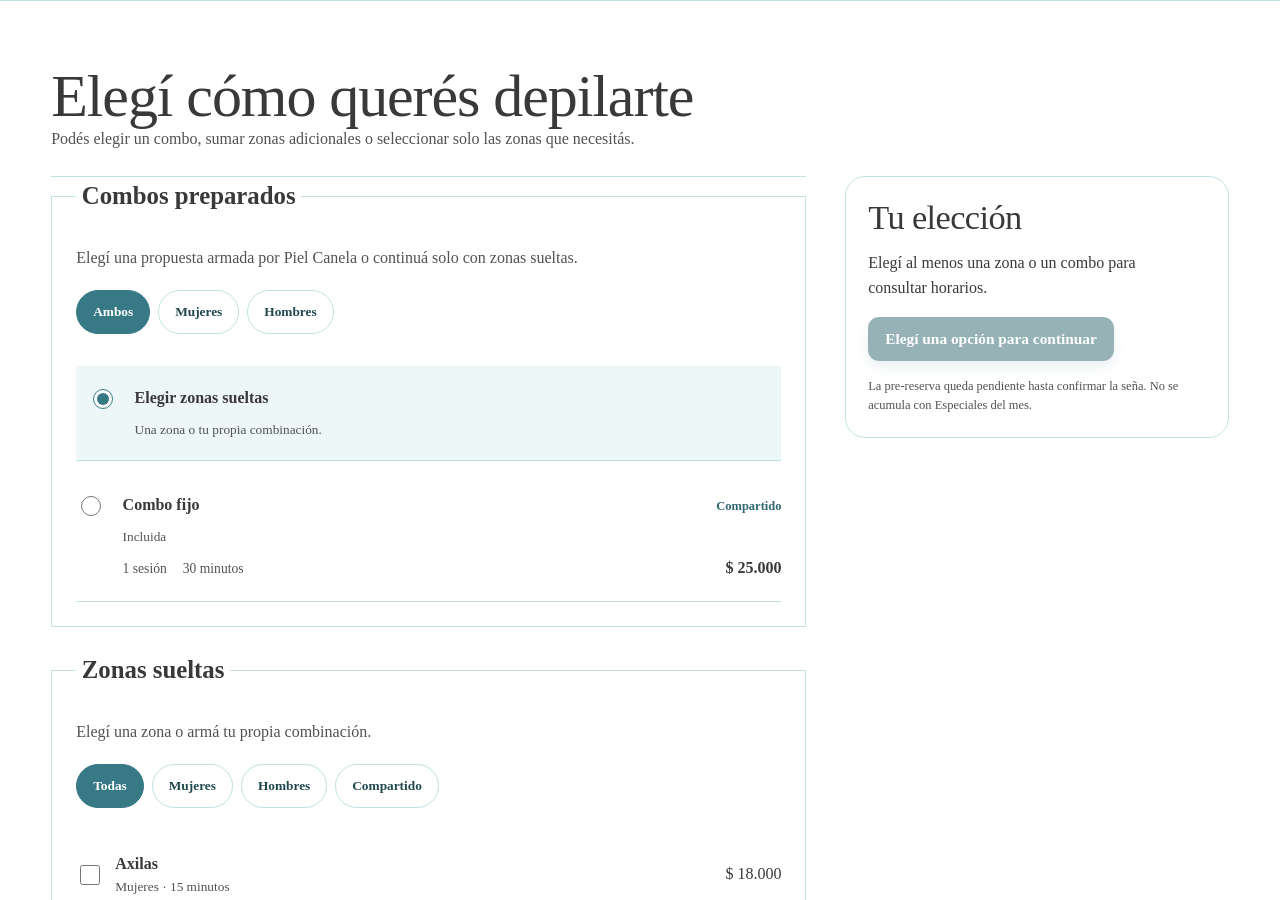
Test: depilation order selector › books one standalone zone without a combo and advertises the actual discount
Click the checkbox labelled "Axilas Mujeres · 15 minutos $ 18.000": (90, 875) top-left (80, 865), bottom-right (100, 885)
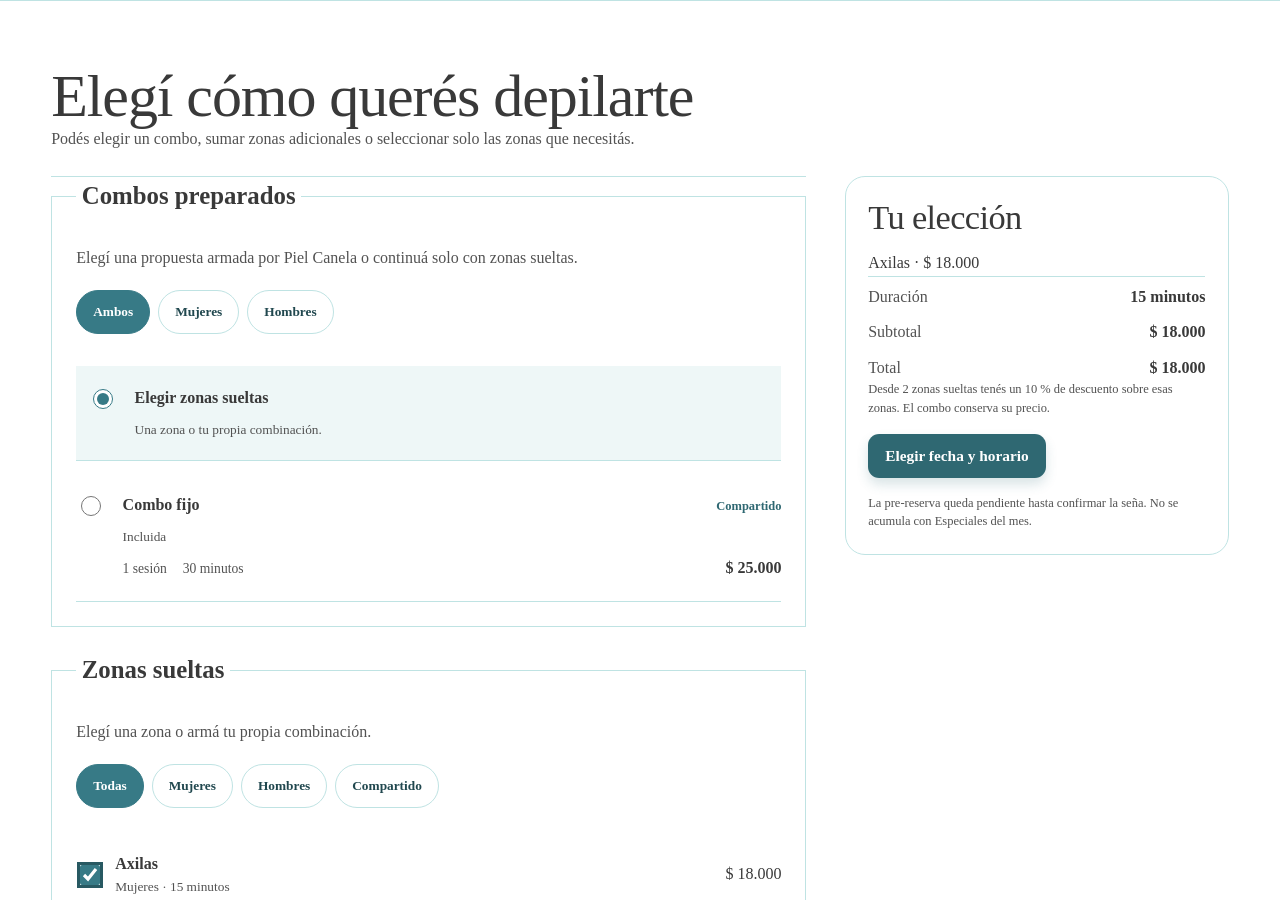
Expected: the text "Desde 2 zonas sueltas tenés un 10 %" is shown, top-left (868, 380), bottom-right (1205, 418)
